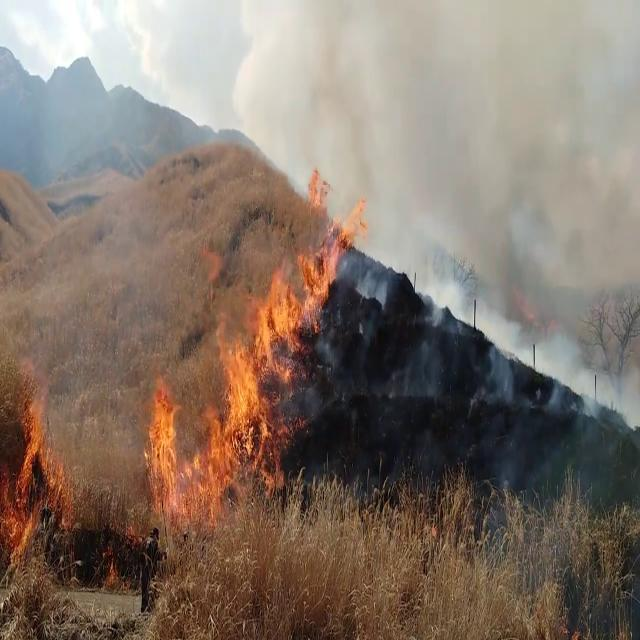Fire: (202, 246, 322, 476), (0, 360, 70, 560), (141, 373, 185, 518)
Smoke: (305, 2, 640, 420)
